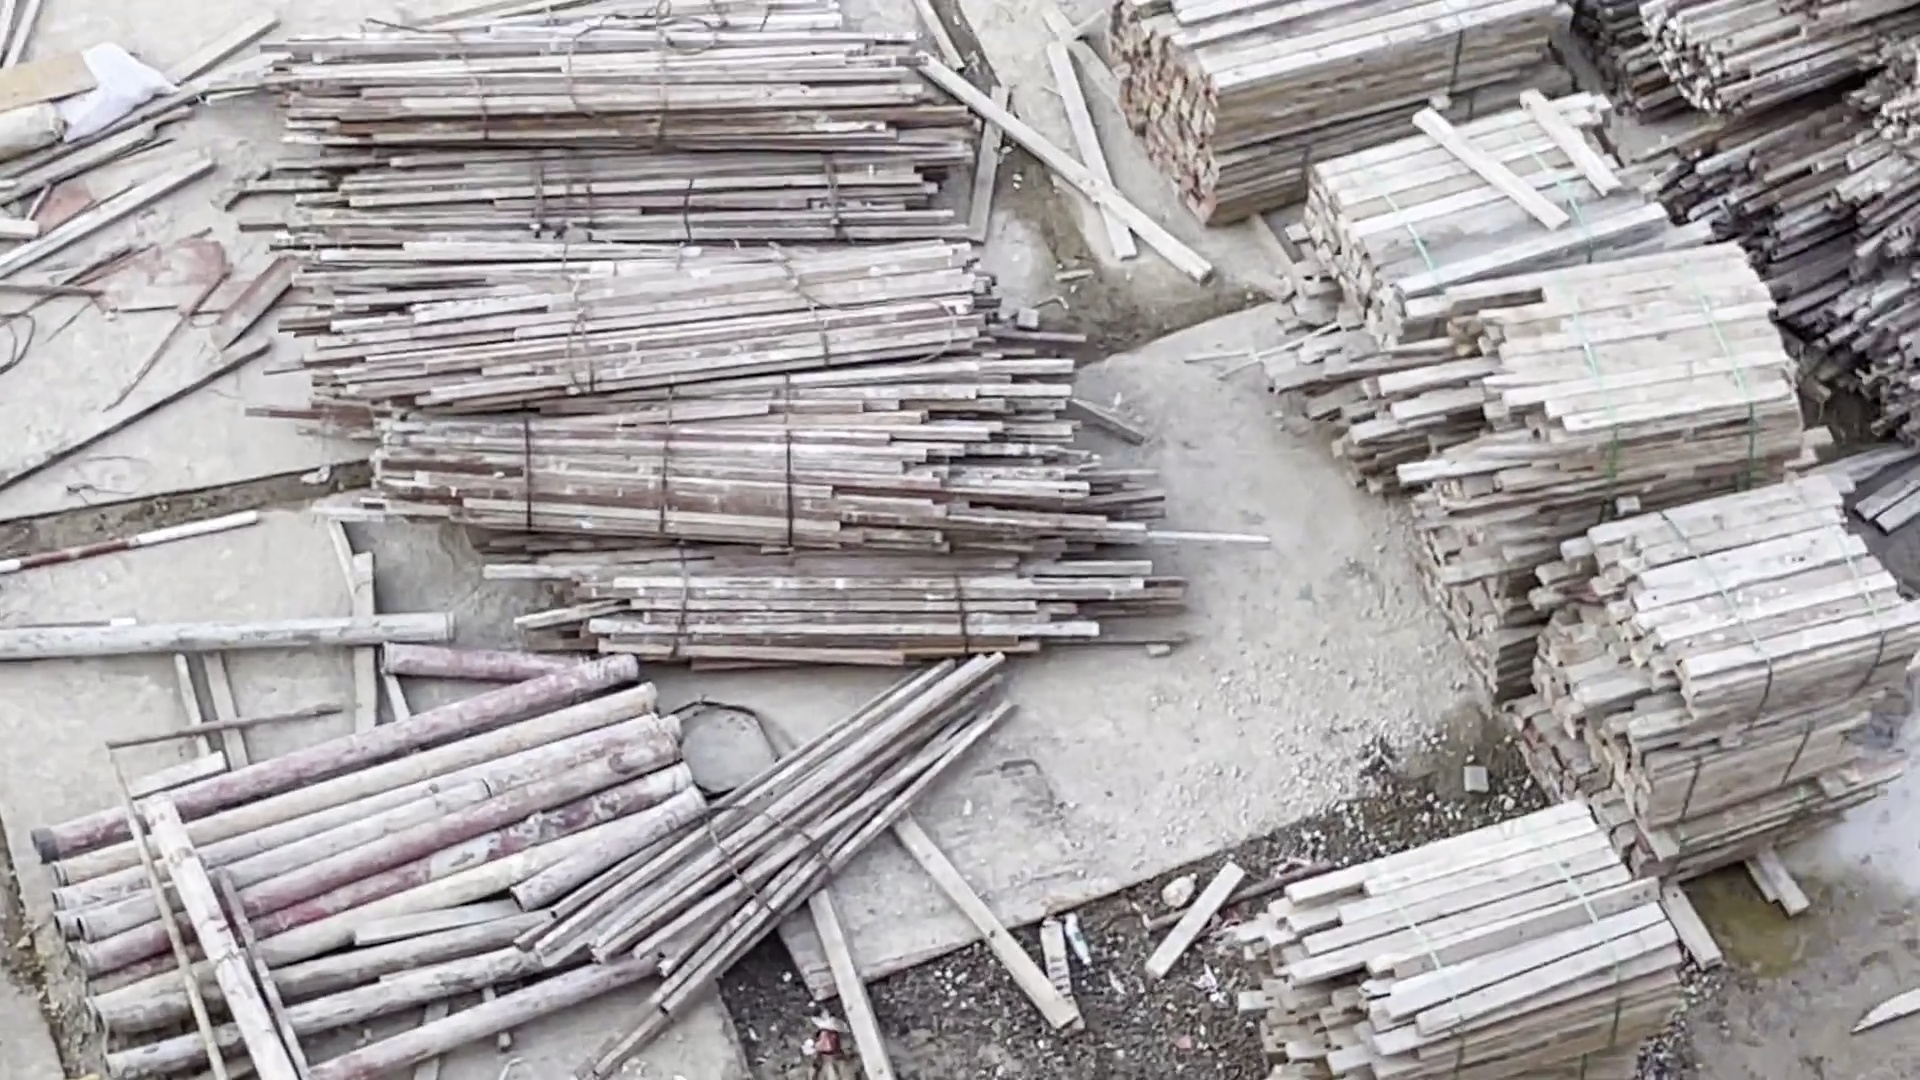wood: (266, 4, 1164, 665), (1299, 100, 1795, 600), (1545, 495, 1919, 872), (1250, 812, 1698, 1080), (1147, 1, 1501, 235)
